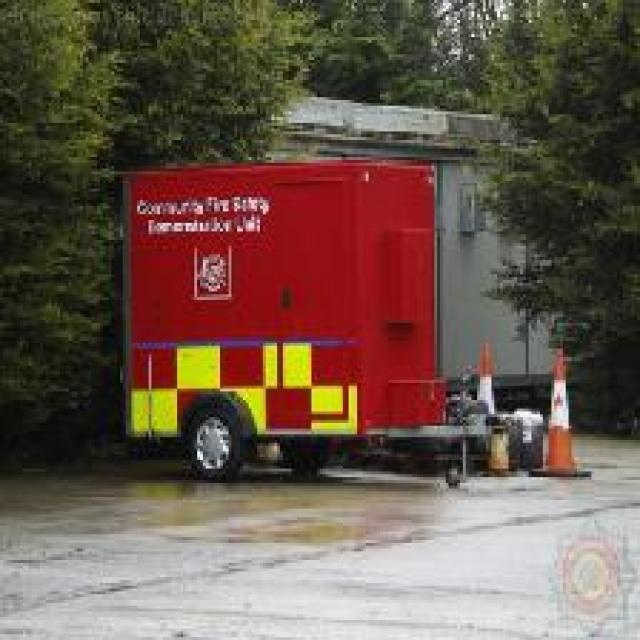Fire-truck: (114, 154, 474, 483)
